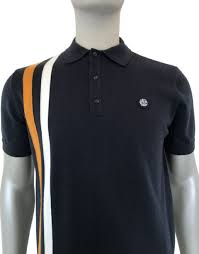S_polo shirt: (2, 43, 199, 248)
